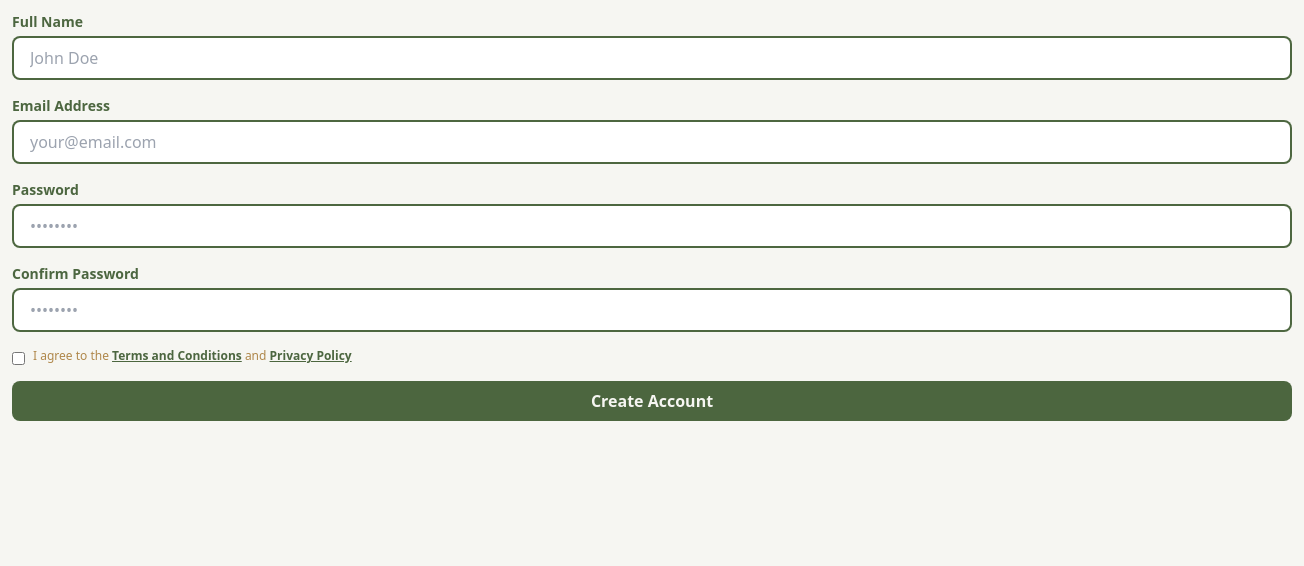
Test: RegisterForm › should show password strength indicator when typing password
Type "Test" into the password field labelled "Password" at (652, 226), box [12,204,1292,248]
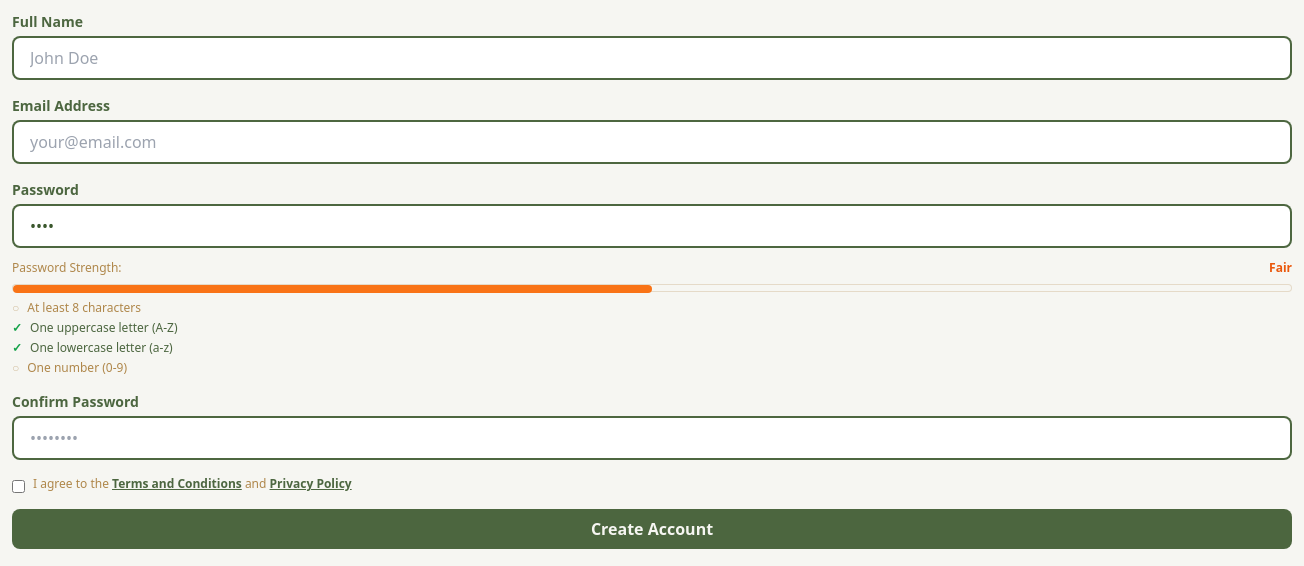
expect the text "Password Strength:" is shown: met, box [12,260,122,276]
